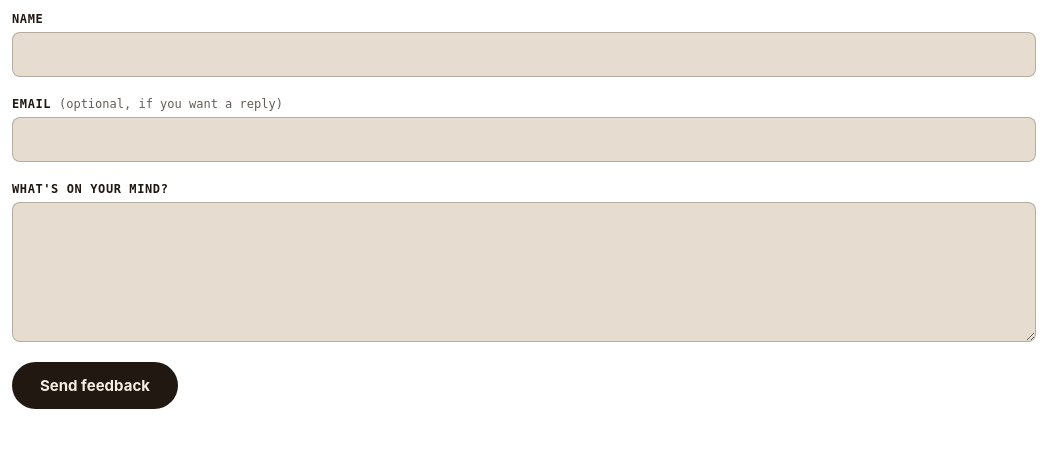
Test: FeedbackForm › shows a generic error message when the request itself fails
The image size is (1048, 462).
Type "Feedback while offline." into the text box labelled "What's on your mind?". click: coordinates (524, 272)
box: x1=12 y1=202 x2=1036 y2=342
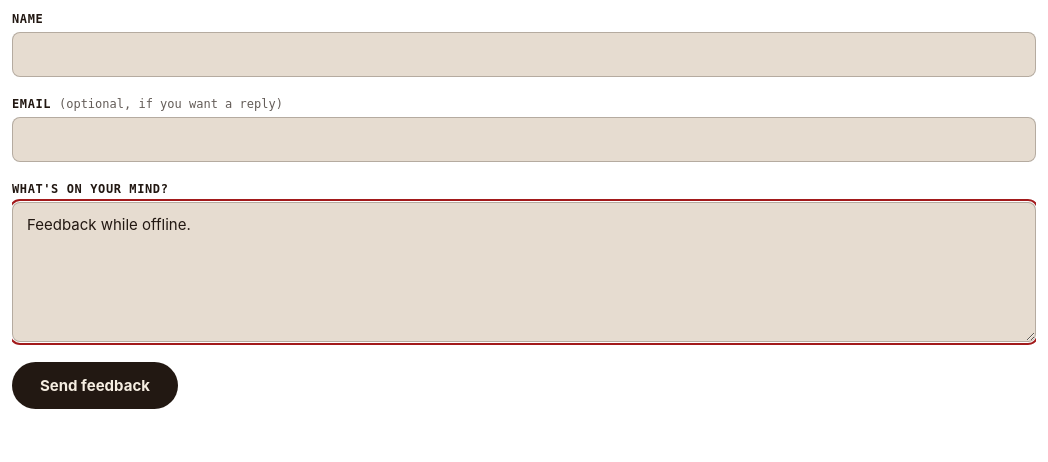
Click the button "Send feedback". click: coordinates (95, 386)
box: x1=12 y1=362 x2=178 y2=409
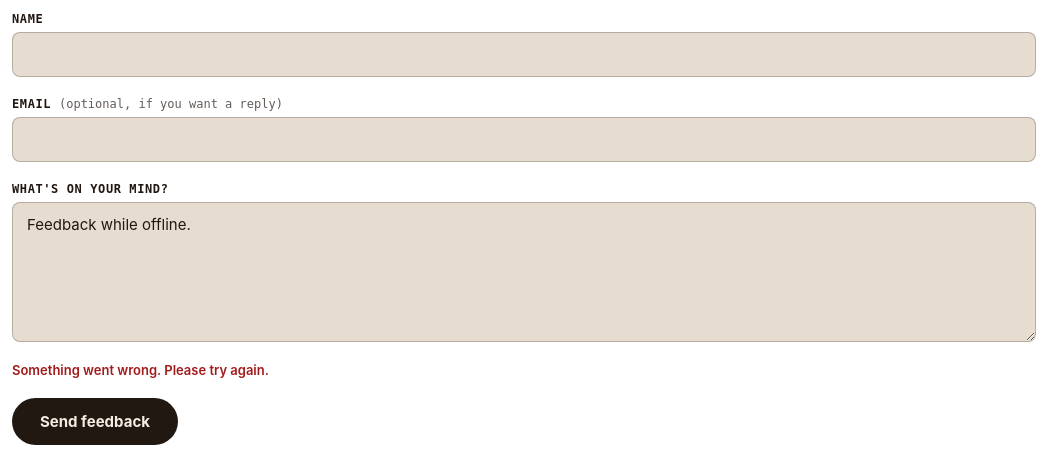
Now the message shows "Something went wrong", box x1=12 y1=362 x2=269 y2=378
